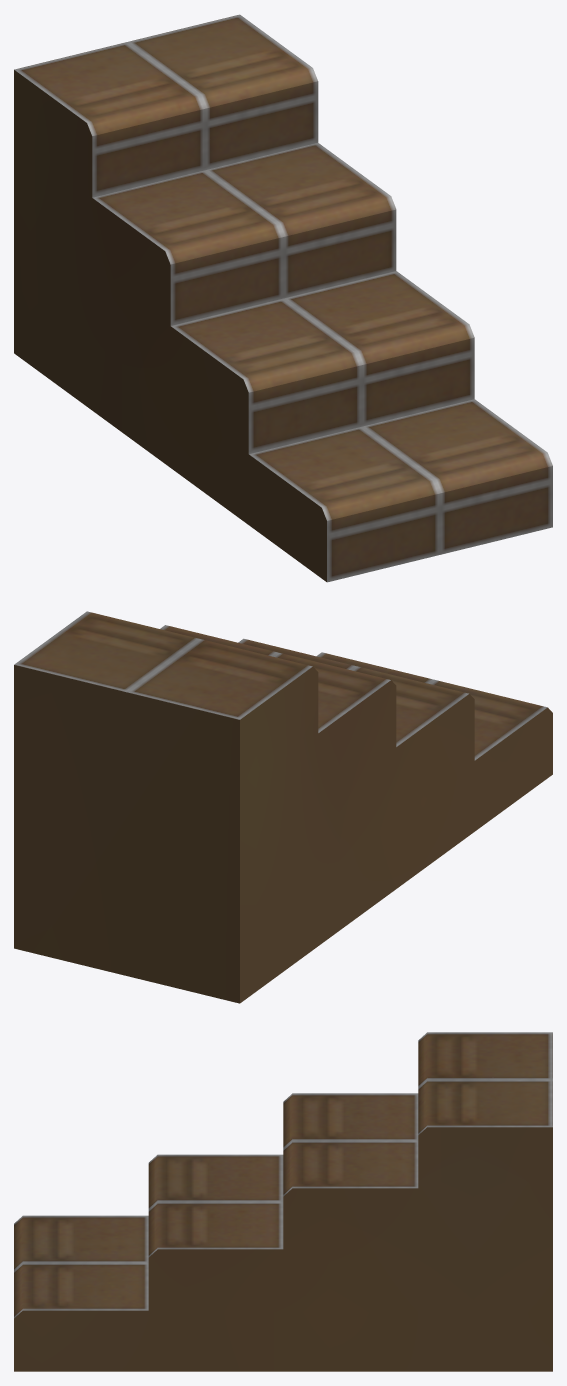
File: set_floor_02b_04_stairs.fbx
3 views of the same model, one above another, from view 1: azimuth 30°, elevation 25°; view 2: azimuth 150°, elevation 25°; view 3: azimuth 270°, elevation 25° (orthographic). The views are drawn at different scales.
Parts seen in each view (by area): view 1: set_floor_02b_04_stairs; view 2: set_floor_02b_04_stairs; view 3: set_floor_02b_04_stairs.
Part boxes in pixels (bbox=[...]): set_floor_02b_04_stairs: bbox=[14, 14, 552, 582]; set_floor_02b_04_stairs: bbox=[14, 611, 552, 1003]; set_floor_02b_04_stairs: bbox=[14, 1032, 552, 1371].
Bounding box in the file's own units: 50 × 60 × 120.
